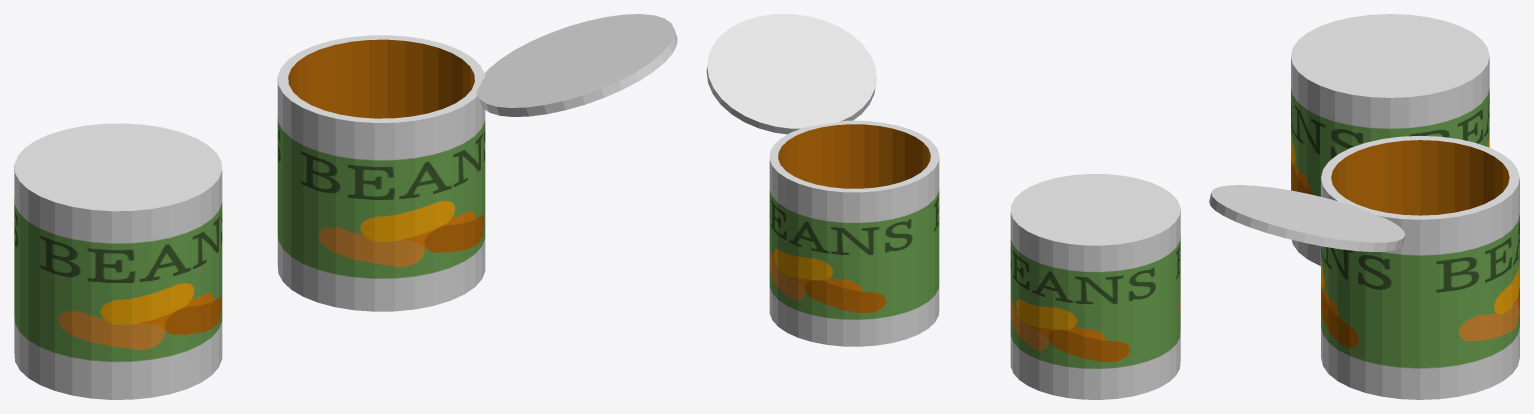
File: Cans.fbx
3 renders of one model, left to right at view 1: azimuth 30°, elevation 25°; view 2: azimuth 150°, elevation 25°; view 3: azimuth 270°, elevation 25°, orthographic. The views are drawn at different scales.
Parts seen in each view (by area): view 1: Cylinder, Cylinder.001; view 2: Cylinder, Cylinder.001; view 3: Cylinder, Cylinder.001.
Part boxes in pixels (x1,y1,x2,y2): Cylinder: (277,14,677,311); Cylinder.001: (14,123,222,399); Cylinder: (706,14,939,346); Cylinder.001: (1010,174,1180,399); Cylinder: (1209,135,1519,399); Cylinder.001: (1291,14,1489,265).
Bounding box in the file's own units: 659 × 270 × 313.
